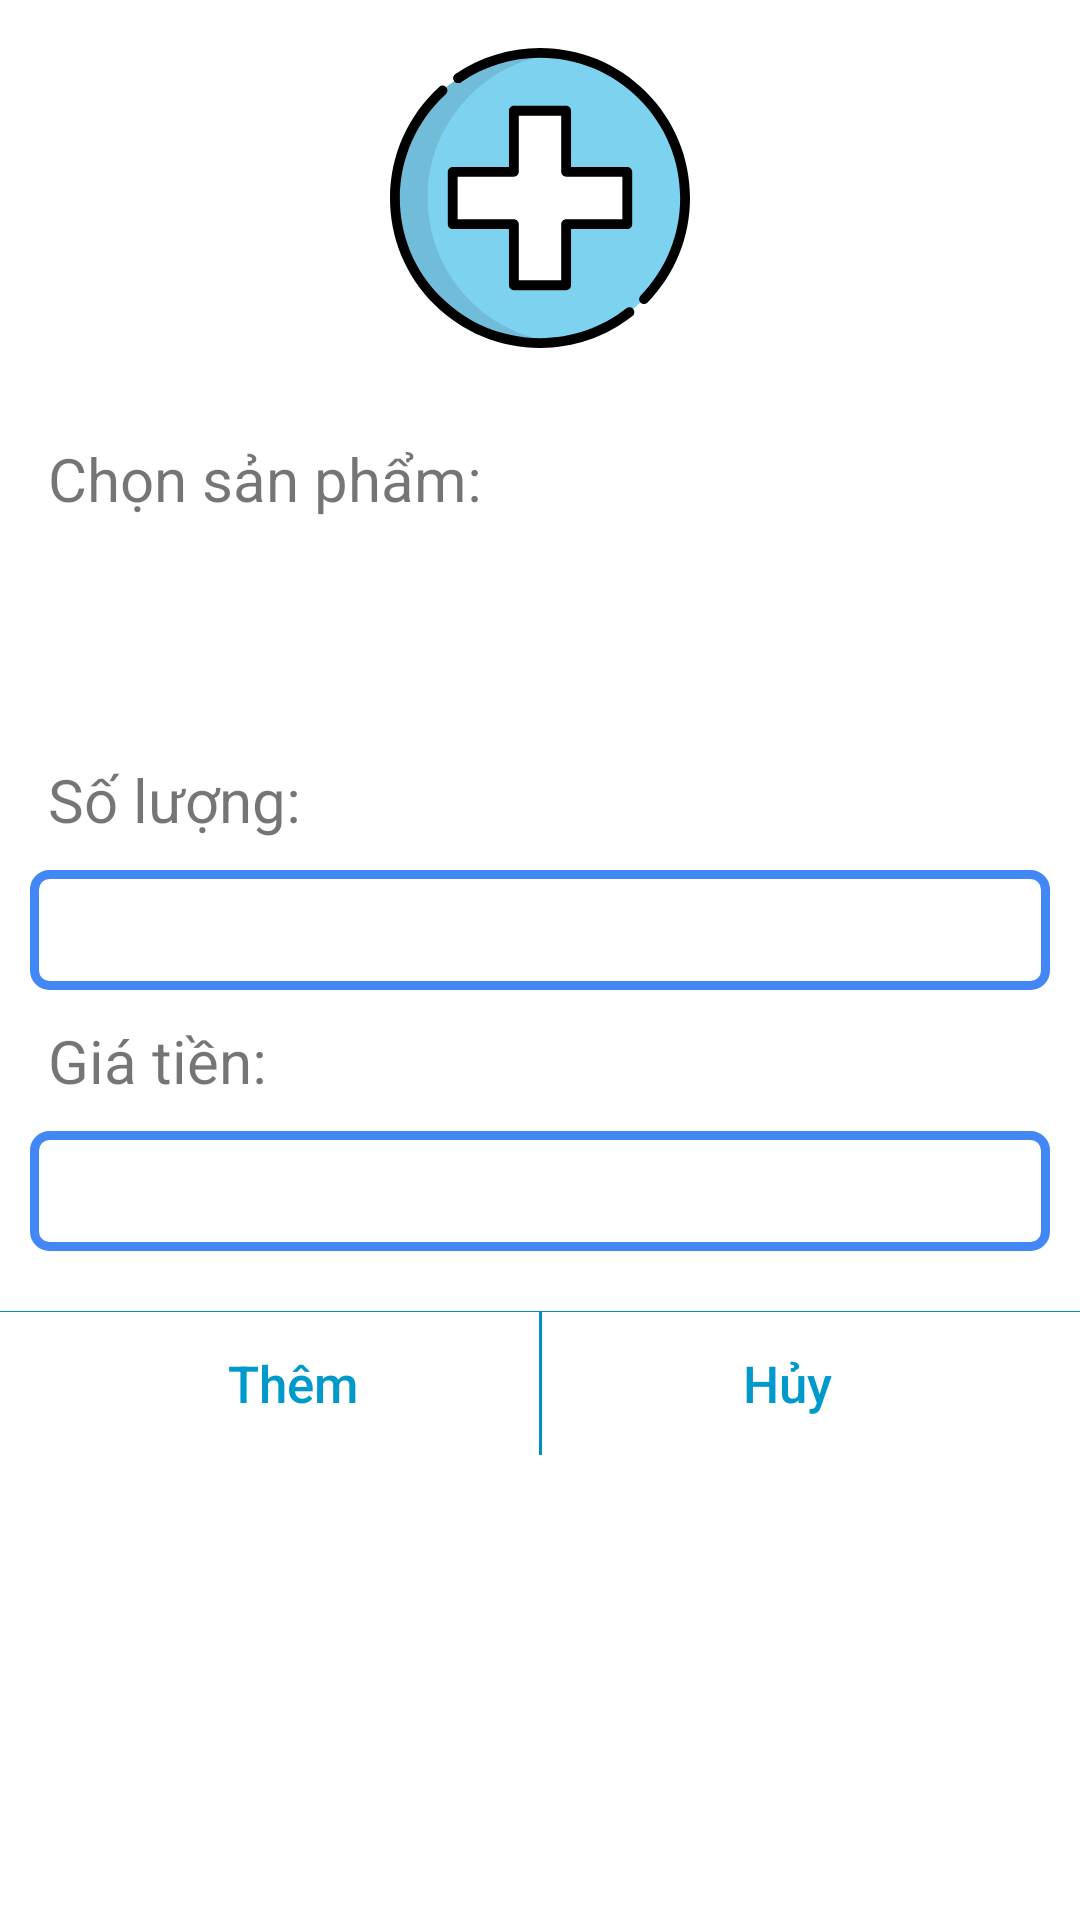

Point at icon controls on the screen. Image size 1080px x 1920px, points as (x=x, y=y).
add plus: (x=540, y=198)
